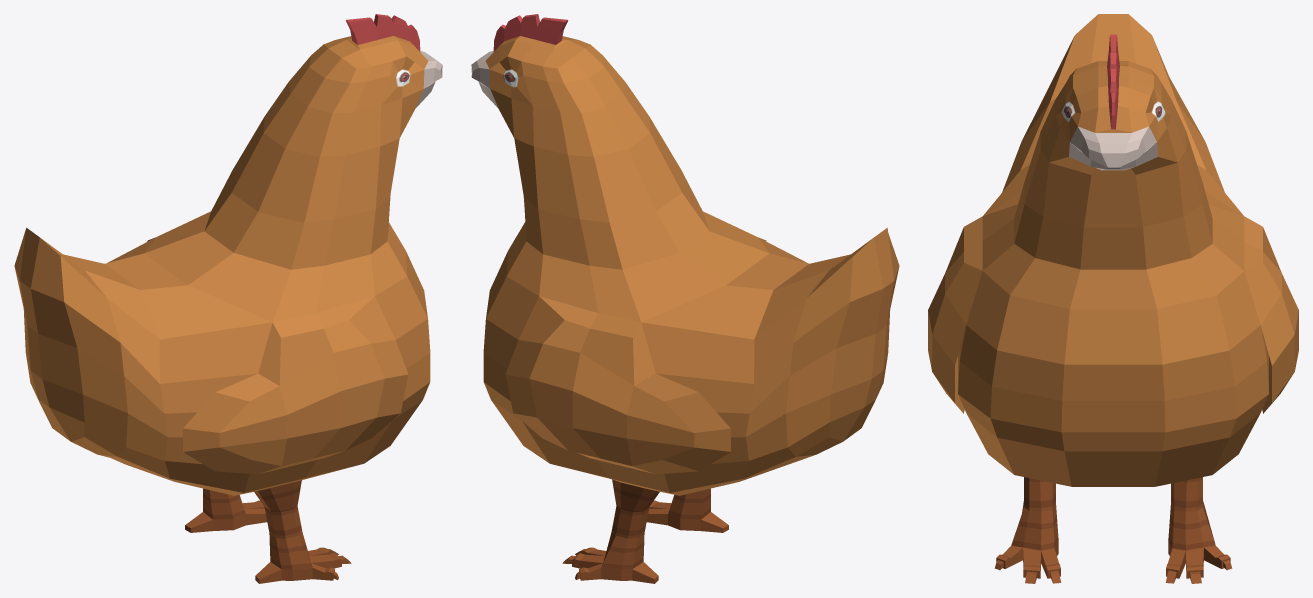
Rendered from Kip.fbx.
3 renders of one model, left to right at view 1: azimuth 30°, elevation 25°; view 2: azimuth 150°, elevation 25°; view 3: azimuth 270°, elevation 25°, orthographic. The views are drawn at different scales.
Visible parts, largest first — view 1: pCube1; view 2: pCube1; view 3: pCube1.
Part boxes in pixels (x1,y1,x2,y2): pCube1: [14, 14, 442, 583]; pCube1: [471, 14, 899, 583]; pCube1: [928, 14, 1298, 583].
Bounding box in the file's own units: 6.69 × 7.79 × 4.61.
Materials: 1 (1 with a texture image).
